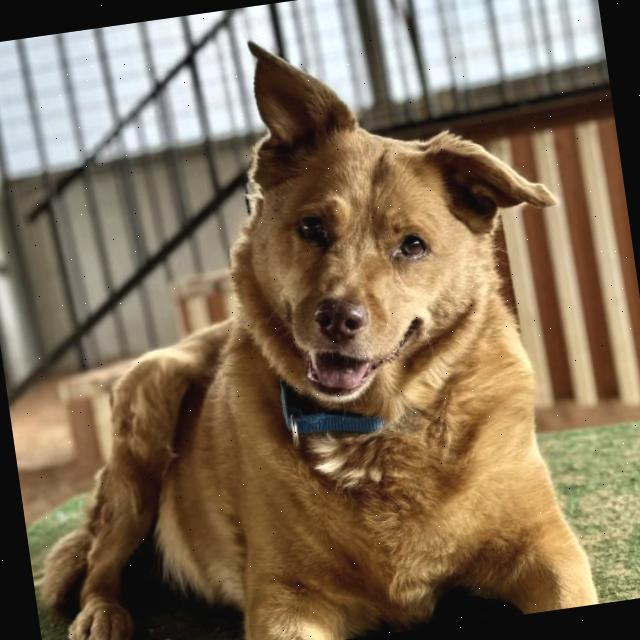labrador_retriever_dog: (172, 0, 593, 493)
